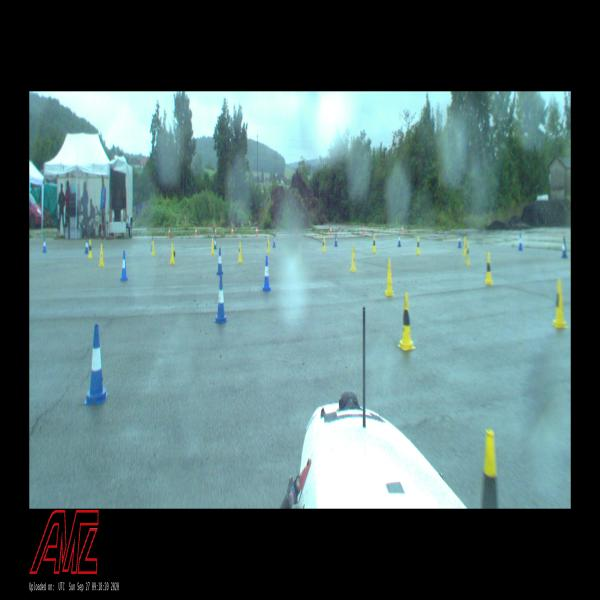blue_cone: (84, 324, 108, 405), (214, 275, 228, 324), (260, 255, 272, 292), (120, 251, 129, 281), (217, 247, 224, 275), (562, 236, 568, 258), (518, 232, 523, 251), (457, 232, 462, 248), (42, 236, 46, 252), (85, 238, 89, 254), (398, 232, 402, 247), (214, 235, 218, 250), (334, 234, 338, 247), (150, 237, 153, 252), (273, 234, 276, 248)
orange_cone: (362, 224, 365, 234), (401, 224, 404, 233), (256, 225, 258, 236), (231, 226, 233, 236), (168, 227, 170, 237), (195, 227, 197, 236), (330, 226, 332, 235), (215, 227, 217, 235), (296, 228, 297, 235)
yellow_cone: (471, 431, 508, 508), (398, 292, 416, 351), (551, 278, 568, 330), (384, 259, 394, 295), (485, 252, 494, 284), (350, 245, 357, 272), (98, 243, 105, 267), (169, 242, 176, 264), (465, 241, 471, 266), (88, 239, 94, 259), (238, 242, 243, 264), (462, 235, 467, 257), (372, 235, 377, 253), (416, 236, 420, 256), (266, 237, 271, 253), (298, 244, 302, 264), (322, 235, 326, 252), (152, 239, 156, 256), (211, 238, 214, 254)
